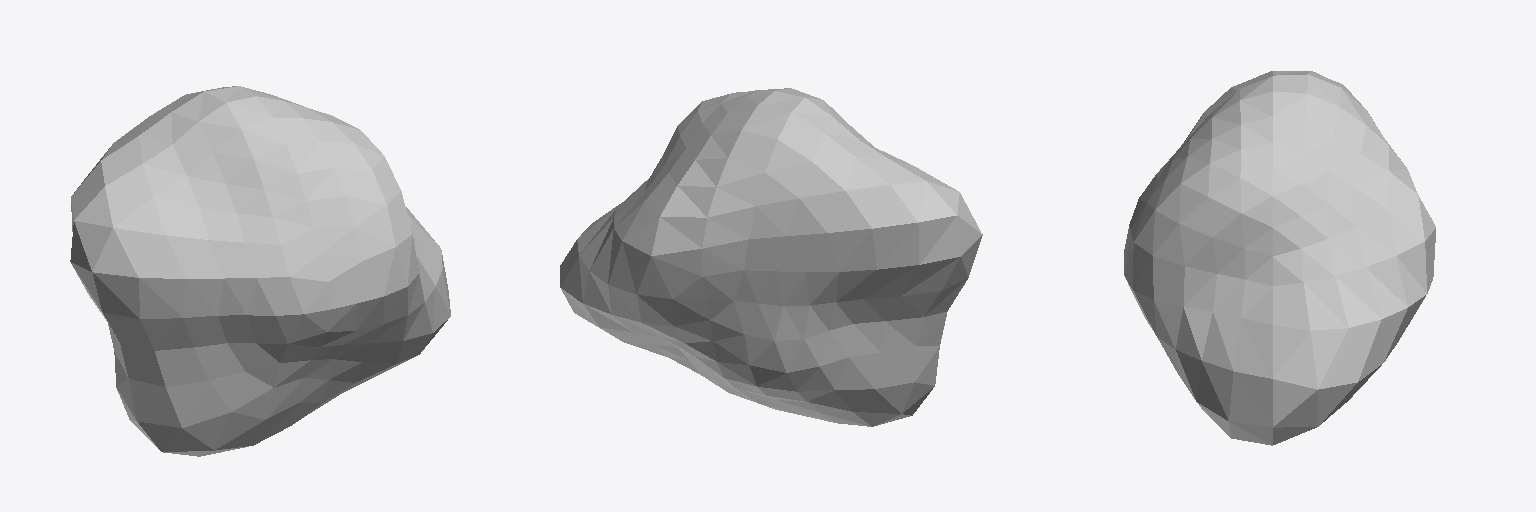
File: churyumov.obj
3 views of the same model, side by side, from view 1: azimuth 30°, elevation 25°; view 2: azimuth 150°, elevation 25°; view 3: azimuth 270°, elevation 25° (orthographic).
Size of the model in its own units: 4.54 by 3.76 by 3.25.